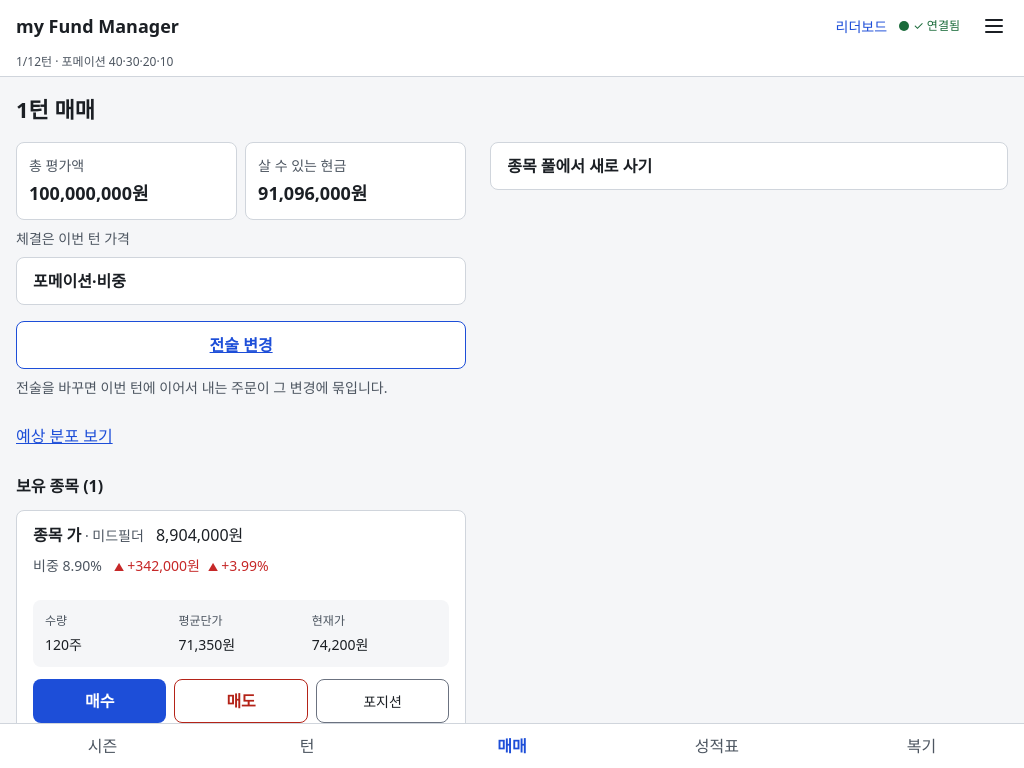
Test: PositionSheet › lists six positions, checks the current one and needs a different choice
Click the button with aria-label "종목 가 포지션 변경".
click(382, 701)  # box [316,679,449,723]
(page scrolled)
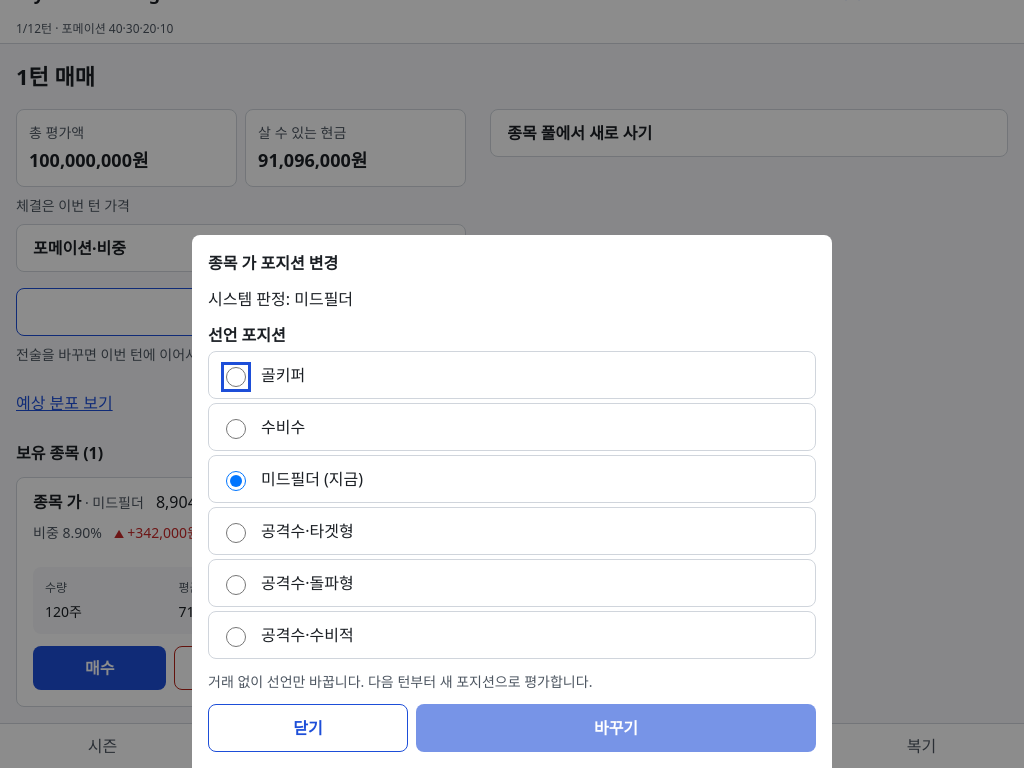
Now the number of radio buttons is 6
Now the radio button labelled "미드필더 (지금)" is checked, box [226,470,246,490]
Now the text "시스템 판정: 미드필더" is shown, box [208,288,353,310]
Click the radio button labelled "수비수".
click(236, 428)  # box [226,418,246,438]
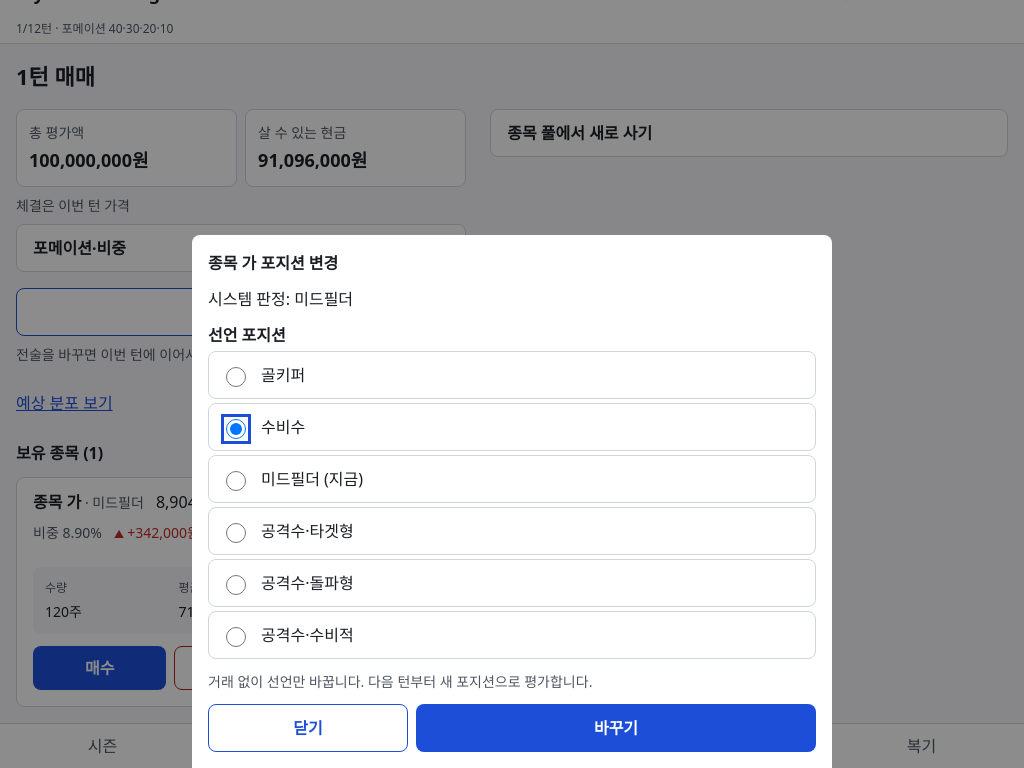
Now the button "바꾸기" is enabled, box [416,704,816,752]
Click the radio button labelled "미드필더 (지금)".
click(236, 480)  # box [226,470,246,490]
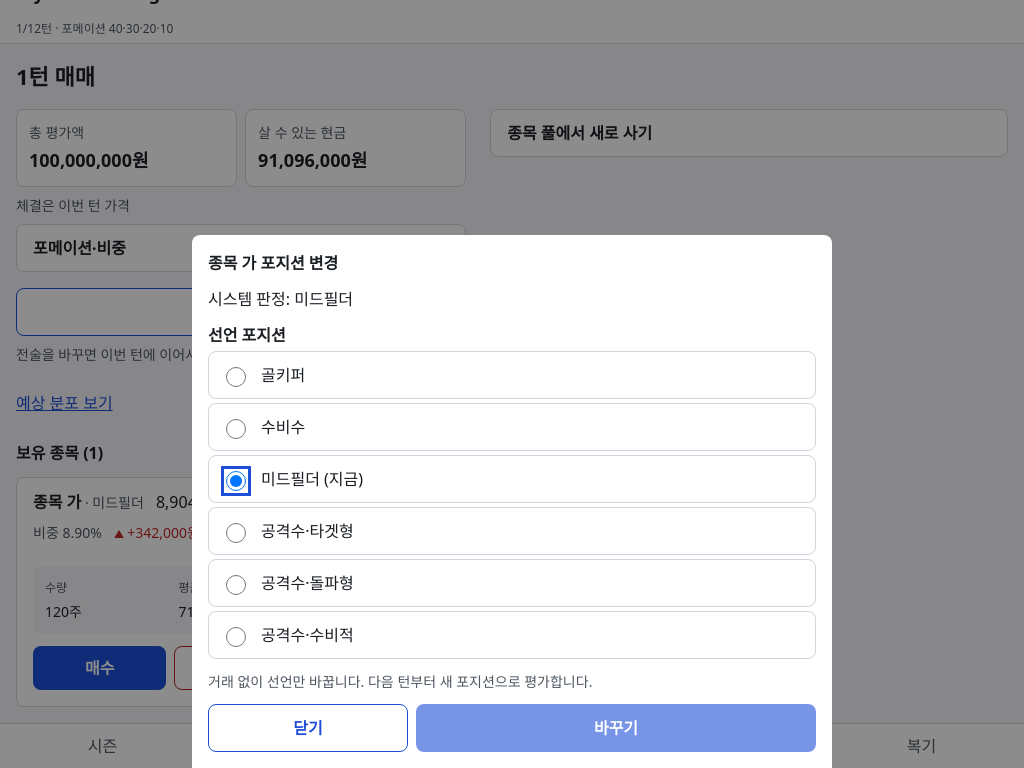
Now the button "바꾸기" is disabled, box [416,704,816,752]
